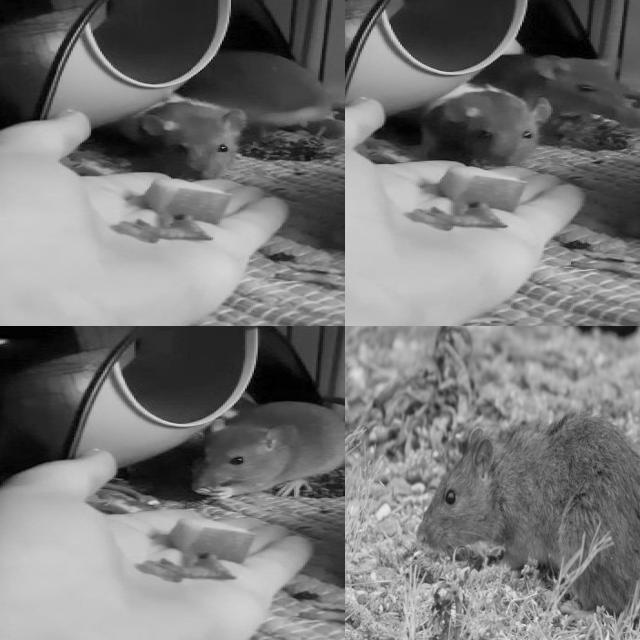rat: (413, 416, 640, 619), (190, 398, 345, 501), (410, 77, 556, 169), (480, 44, 634, 123), (136, 97, 252, 183)
